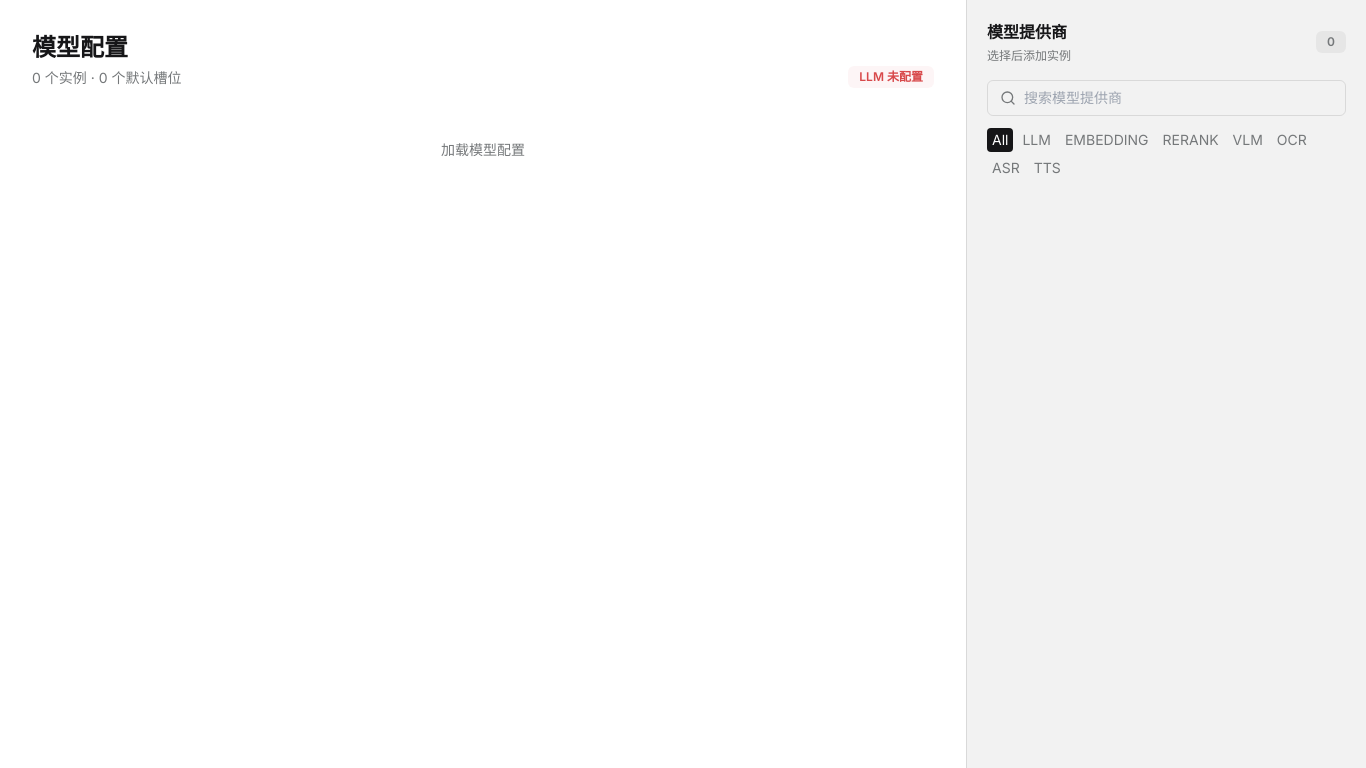
RAGFlow-style operations pages › shows official VLM and RERANK presets without recommendation labels
Click the button "VLM" at {"x": 1248, "y": 140}, box [1228,128,1268,152]
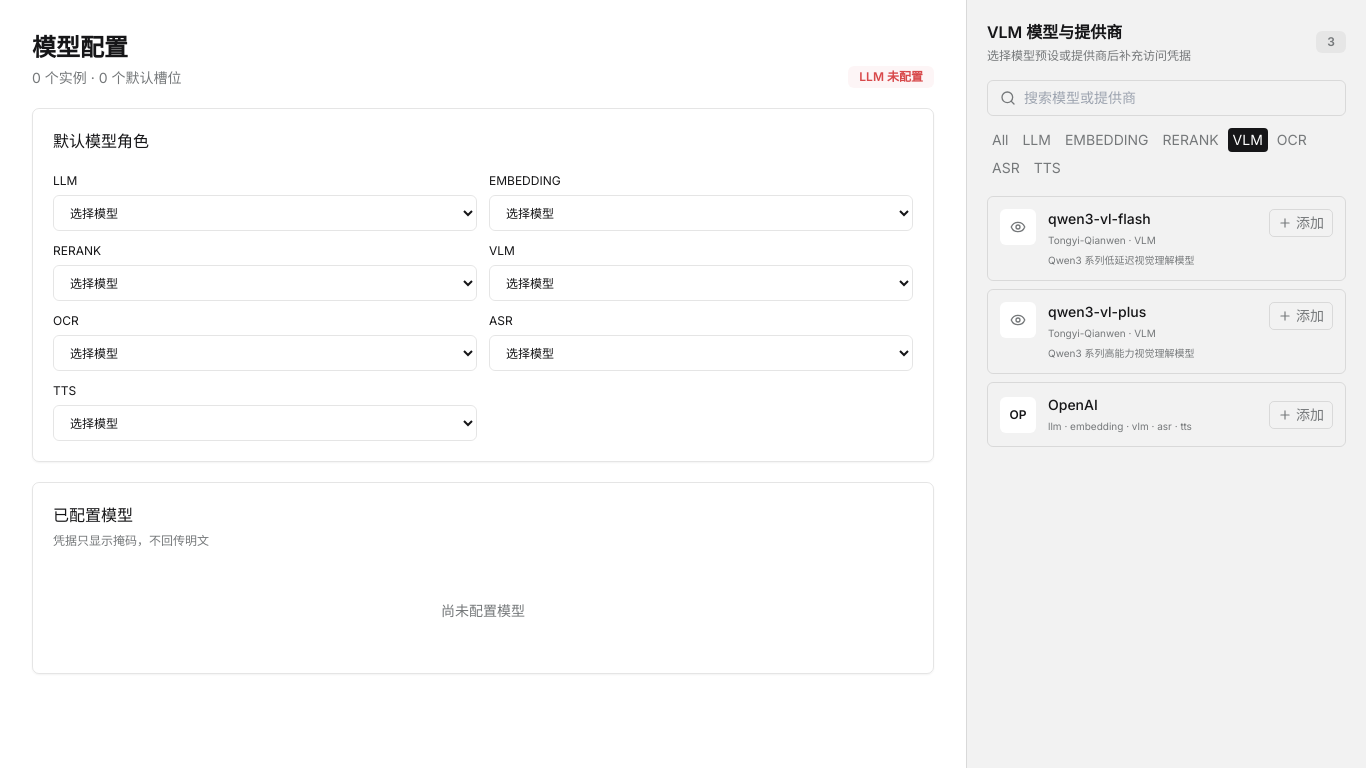
Result: the button with aria-label "添加 qwen3-vl-flash" is shown at [1269,209,1333,237]
Result: the button with aria-label "添加 qwen3-vl-plus" is shown at [1269,302,1333,330]
Result: the button with aria-label "添加 OpenAI" is shown at [1269,400,1333,428]
Click the button "RERANK" at {"x": 1191, "y": 140}, box [1158,128,1224,152]
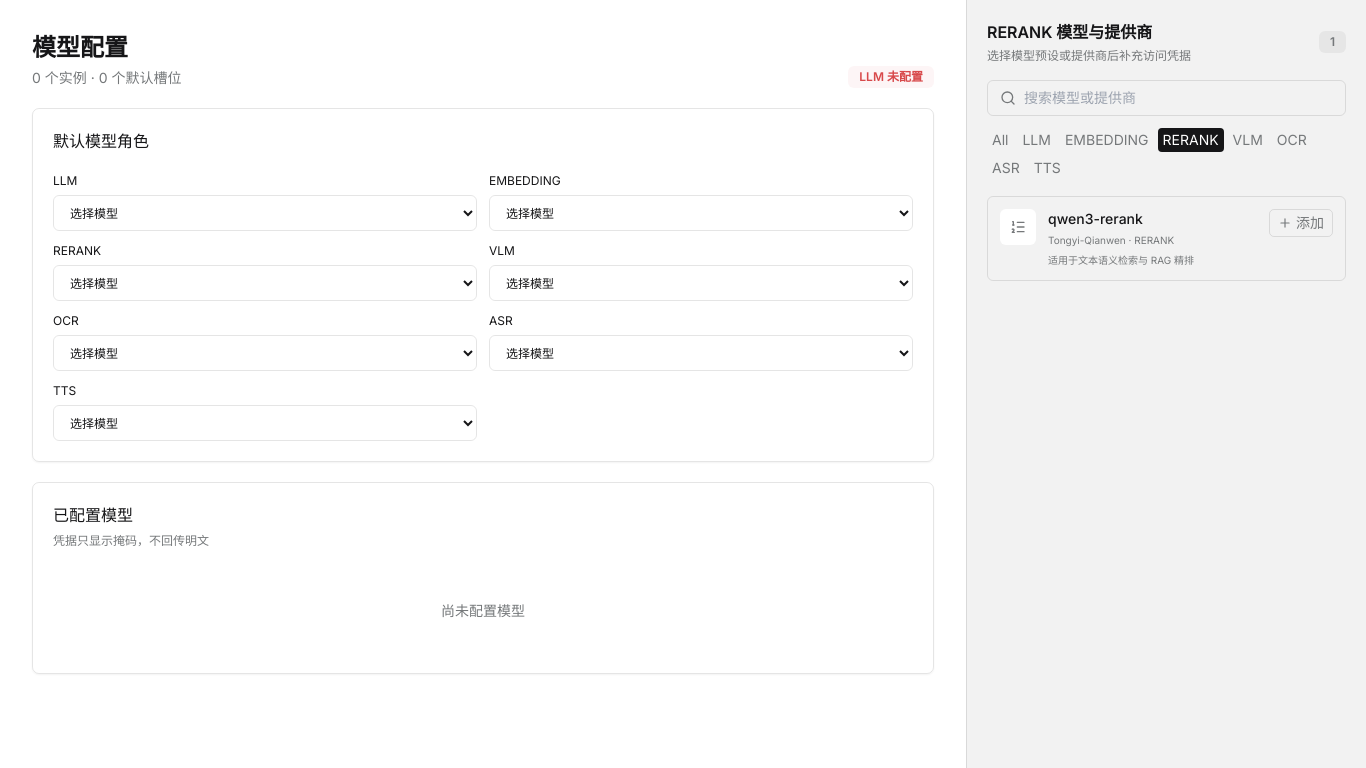
Result: the text "Tongyi-Qianwen · RERANK" is shown at [1048,234,1174,246]
Click the button with aria-label "添加 qwen3-rerank" at {"x": 1301, "y": 223}, box [1269,209,1333,237]
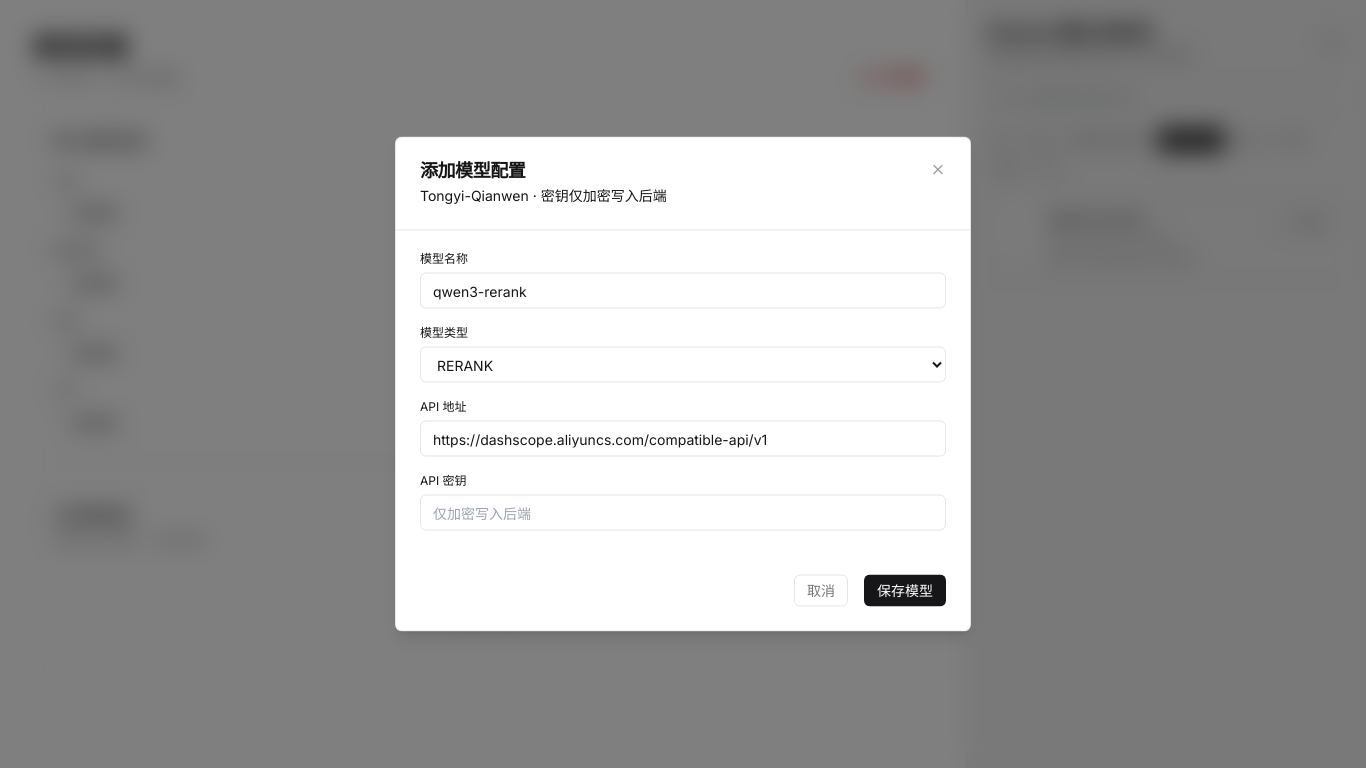
Result: the dropdown labelled "模型类型" shows "RERANK" at [420,346,946,382]
Result: the field labelled "模型名称" holds "qwen3-rerank" at [420,272,946,308]
Result: the field labelled "API 地址" holds "https://dashscope.aliyuncs.com/compatible-api/v1" at [420,420,946,456]
